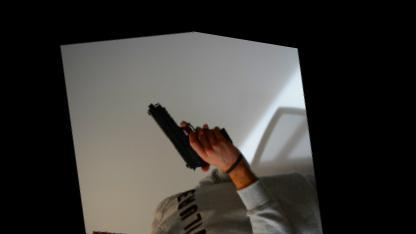pistol: (141, 77, 247, 179)
